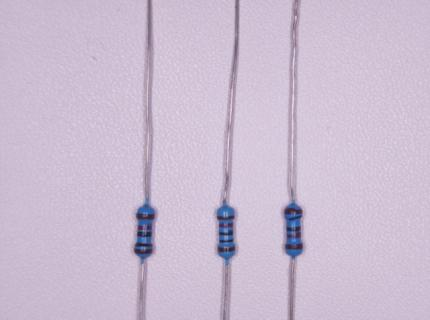Black band: (137, 231, 152, 237), (287, 226, 301, 232), (286, 216, 301, 221), (135, 243, 153, 247), (219, 231, 233, 236), (220, 239, 234, 243)
Brown band: (285, 208, 303, 215), (134, 248, 153, 254), (285, 244, 303, 250), (137, 213, 154, 219), (218, 247, 235, 252), (217, 216, 235, 220)
Red band: (287, 233, 301, 239), (138, 225, 153, 230), (219, 223, 233, 228)
